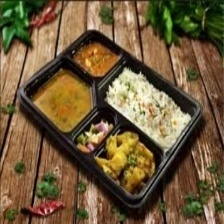rice: (102, 69, 192, 150)
